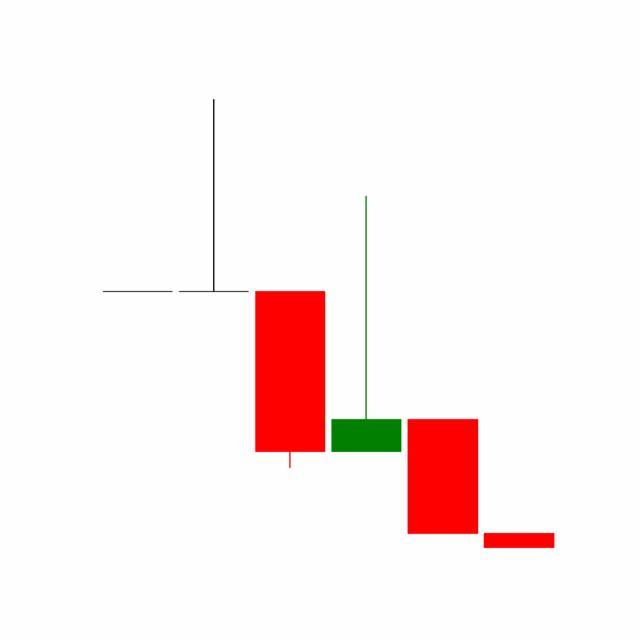Marubozu: (404, 418, 482, 536)
